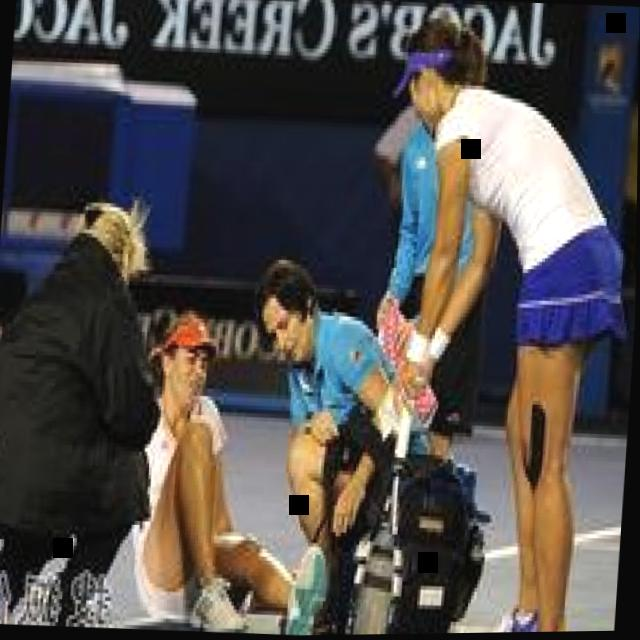Fall-Detected: (127, 280, 342, 638)
